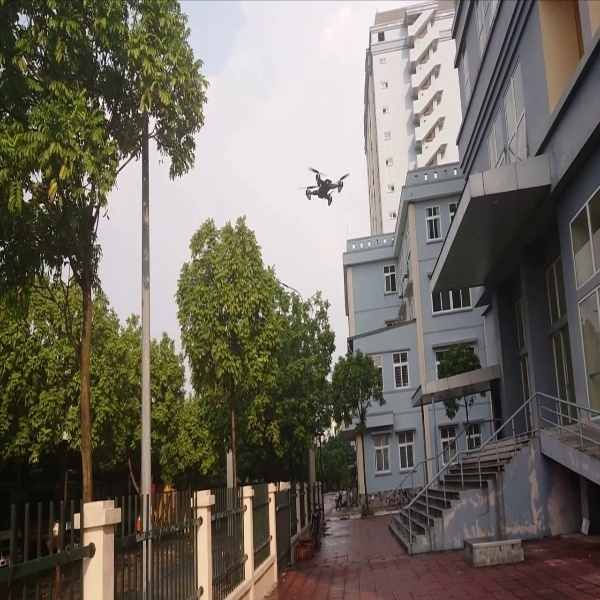drone: (298, 152, 353, 211)
